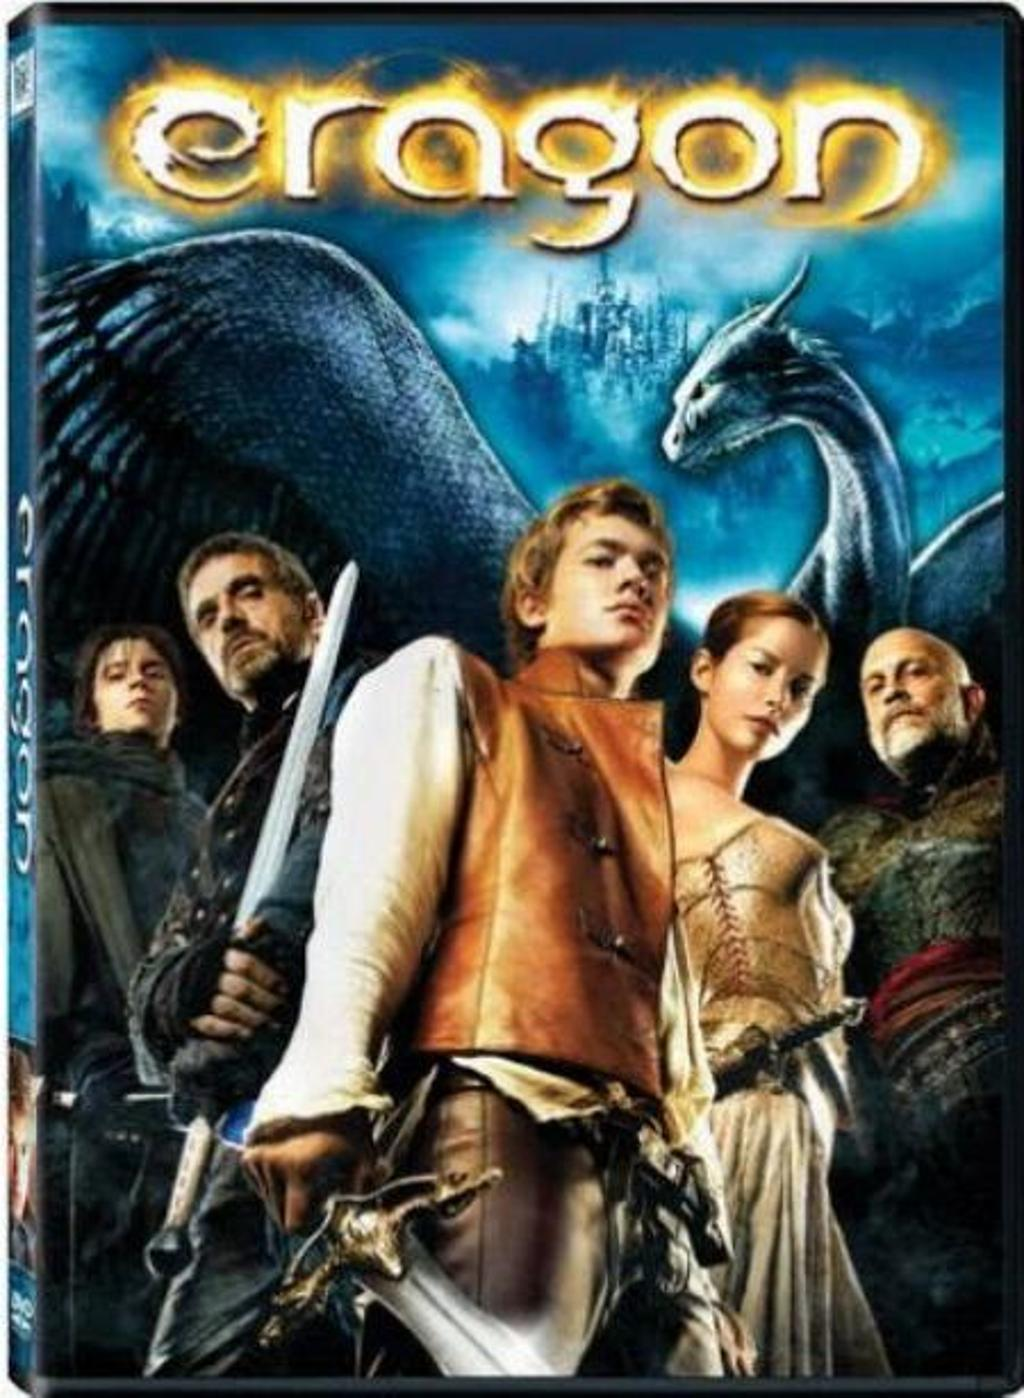face: (552, 516, 667, 653), (194, 549, 292, 694), (724, 625, 822, 753), (866, 634, 959, 762), (93, 642, 172, 743)
